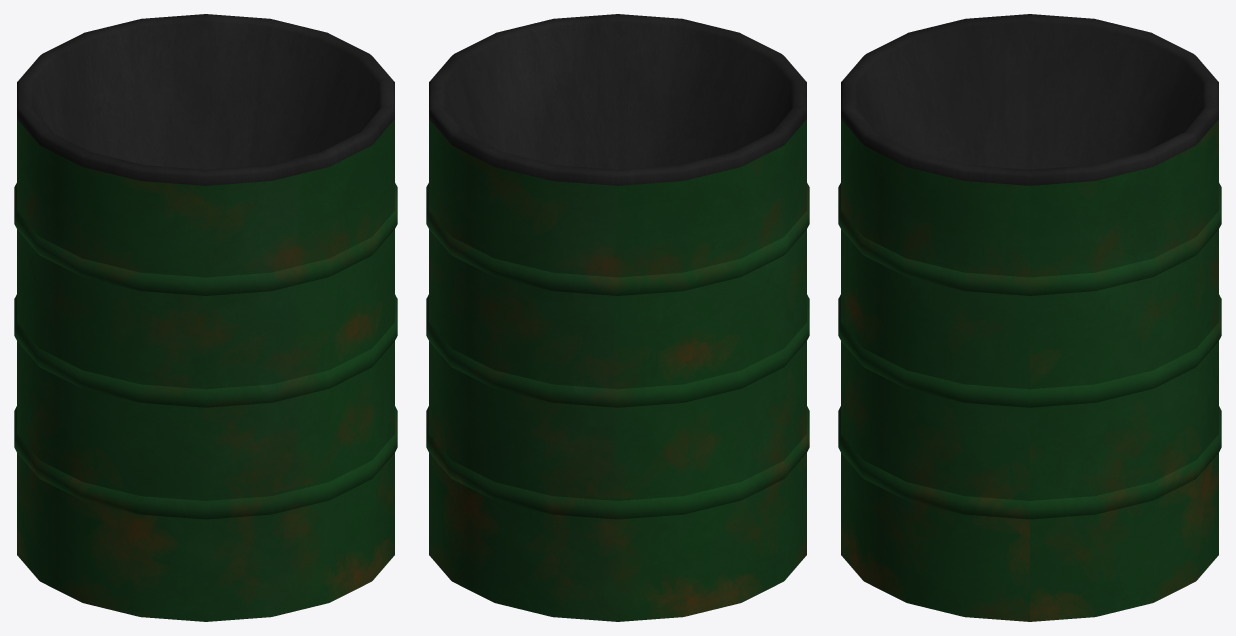
File: Mesh_Poubelle.FBX
3 views of the same model, side by side, from view 1: azimuth 30°, elevation 25°; view 2: azimuth 150°, elevation 25°; view 3: azimuth 270°, elevation 25° (orthographic).
Parts seen in each view (by area): view 1: Cylinder002; view 2: Cylinder002; view 3: Cylinder002.
Part boxes in pixels (x1,y1,x2,y2): Cylinder002: (14, 14, 397, 621); Cylinder002: (426, 14, 809, 621); Cylinder002: (838, 14, 1221, 621).
Size of the model in its own units: 27.96 by 35.42 by 27.54.
